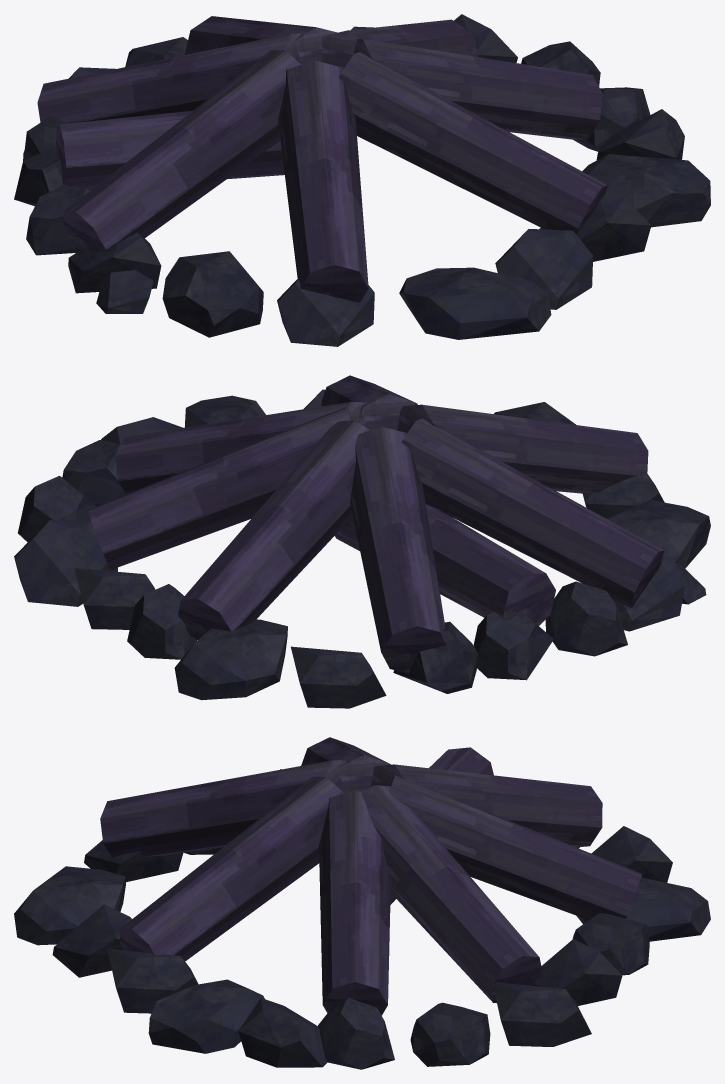
File: firecamp.fbx
3 views of the same model, one above another, from view 1: azimuth 30°, elevation 25°; view 2: azimuth 150°, elevation 25°; view 3: azimuth 270°, elevation 25° (orthographic). The views are drawn at different scales.
Visible parts, largest first — view 1: Cylinder.019, Cylinder.015, Cylinder.021, Cylinder.012, Cylinder.014, Cube.012, Cylinder.023, Cube.042, Cube.009, Cube.011, Cube.013, Cylinder.013 (+12 smaller); view 2: Cylinder.015, Cylinder.018, Cylinder.014, Cylinder.013, Cylinder.021, Cylinder.023, Cylinder.012, Cube.006, Cube.000, Cube.017, Cube.014, Cube.016 (+13 smaller); view 3: Cylinder.019, Cylinder.013, Cylinder.018, Cylinder.012, Cylinder.021, Cylinder.014, Cube.009, Cube.012, Cube.000, Cube.008, Cube.005, Cube.007 (+9 smaller).
Boxes of the visible parts, x1,y1,x2,y2 form: Cylinder.019: (338,52,607,234); Cylinder.015: (63,50,300,252); Cylinder.021: (278,60,368,302); Cylinder.012: (353,39,602,139); Cylinder.014: (37,33,301,123); Cube.012: (399,267,551,339); Cylinder.023: (56,110,284,188); Cube.042: (162,251,263,337); Cube.009: (582,154,710,227); Cube.011: (495,229,593,309); Cube.013: (277,279,374,346); Cylinder.013: (322,19,478,68); Cylinder.015: (401,418,664,607); Cylinder.018: (178,420,369,639); Cylinder.014: (350,426,446,673); Cylinder.013: (87,407,352,569); Cylinder.021: (397,404,648,493); Cylinder.023: (335,504,555,625); Cylinder.012: (115,402,367,493); Cube.006: (174,619,287,700); Cube.000: (14,520,117,606); Cube.017: (545,581,627,656); Cube.014: (291,646,386,708); Cube.016: (473,612,553,680); Cylinder.019: (119,776,344,961); Cylinder.013: (361,785,542,1002); Cylinder.018: (389,775,641,919); Cylinder.012: (319,790,390,1015); Cylinder.021: (100,760,346,857); Cylinder.014: (371,764,602,847); Cube.009: (148,979,264,1053); Cube.012: (14,866,125,945); Cube.000: (493,982,591,1046); Cube.008: (238,998,327,1067); Cube.005: (410,1002,490,1066); Cube.007: (318,997,394,1069).
Bounding box in the file's own units: 112 × 29.65 × 121.
2 materials, 2 textured.
